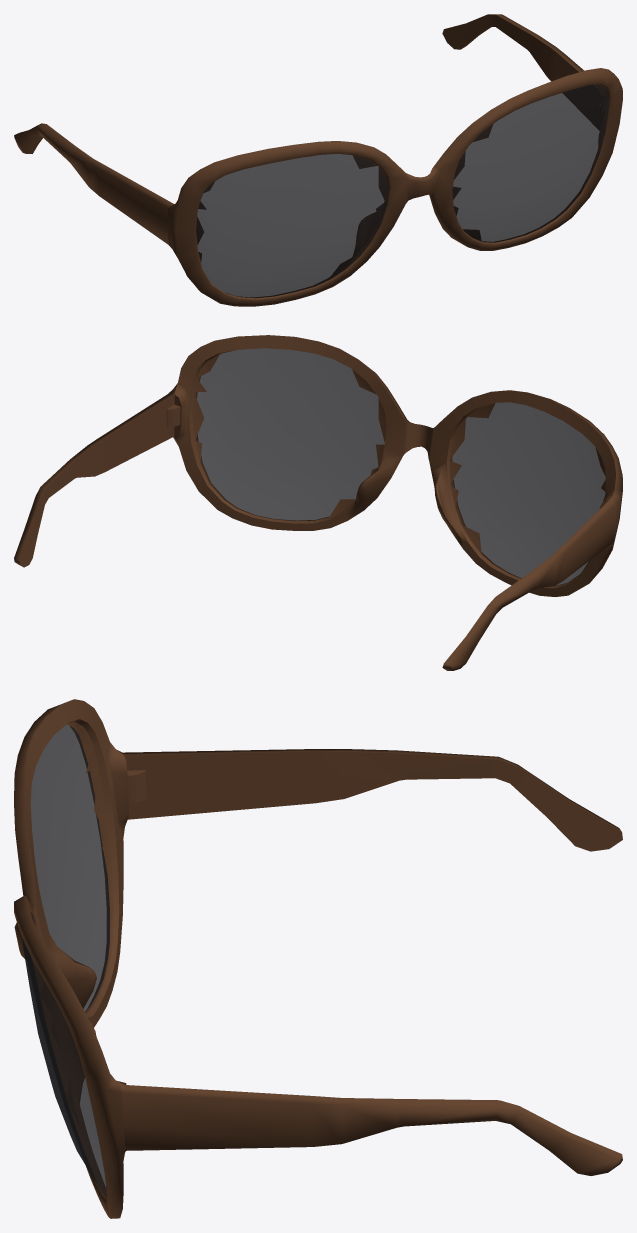
Rendered from model_3_havana_brown.glb.
3 views of the same model, one above another, from view 1: azimuth 30°, elevation 25°; view 2: azimuth 150°, elevation 25°; view 3: azimuth 270°, elevation 25° (orthographic). The views are drawn at different scales.
Visible parts, largest first — view 1: Oversized_Black_Lens_Sunglasses; view 2: Oversized_Black_Lens_Sunglasses; view 3: Oversized_Black_Lens_Sunglasses.
Boxes of the visible parts, x1,y1,x2,y2 form: Oversized_Black_Lens_Sunglasses: (14,14,622,306); Oversized_Black_Lens_Sunglasses: (14,335,622,670); Oversized_Black_Lens_Sunglasses: (14,699,622,1218).
Bounding box in the file's own units: 0.1704 × 0.0608 × 0.1231.
